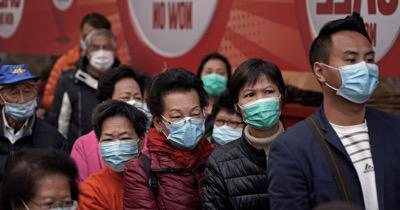mask_weared_incorrect: (1, 84, 36, 121)
with_mask: (323, 48, 379, 104), (237, 84, 282, 131), (160, 103, 205, 150), (98, 129, 140, 173), (211, 113, 243, 146), (198, 65, 228, 95), (86, 42, 117, 71)
